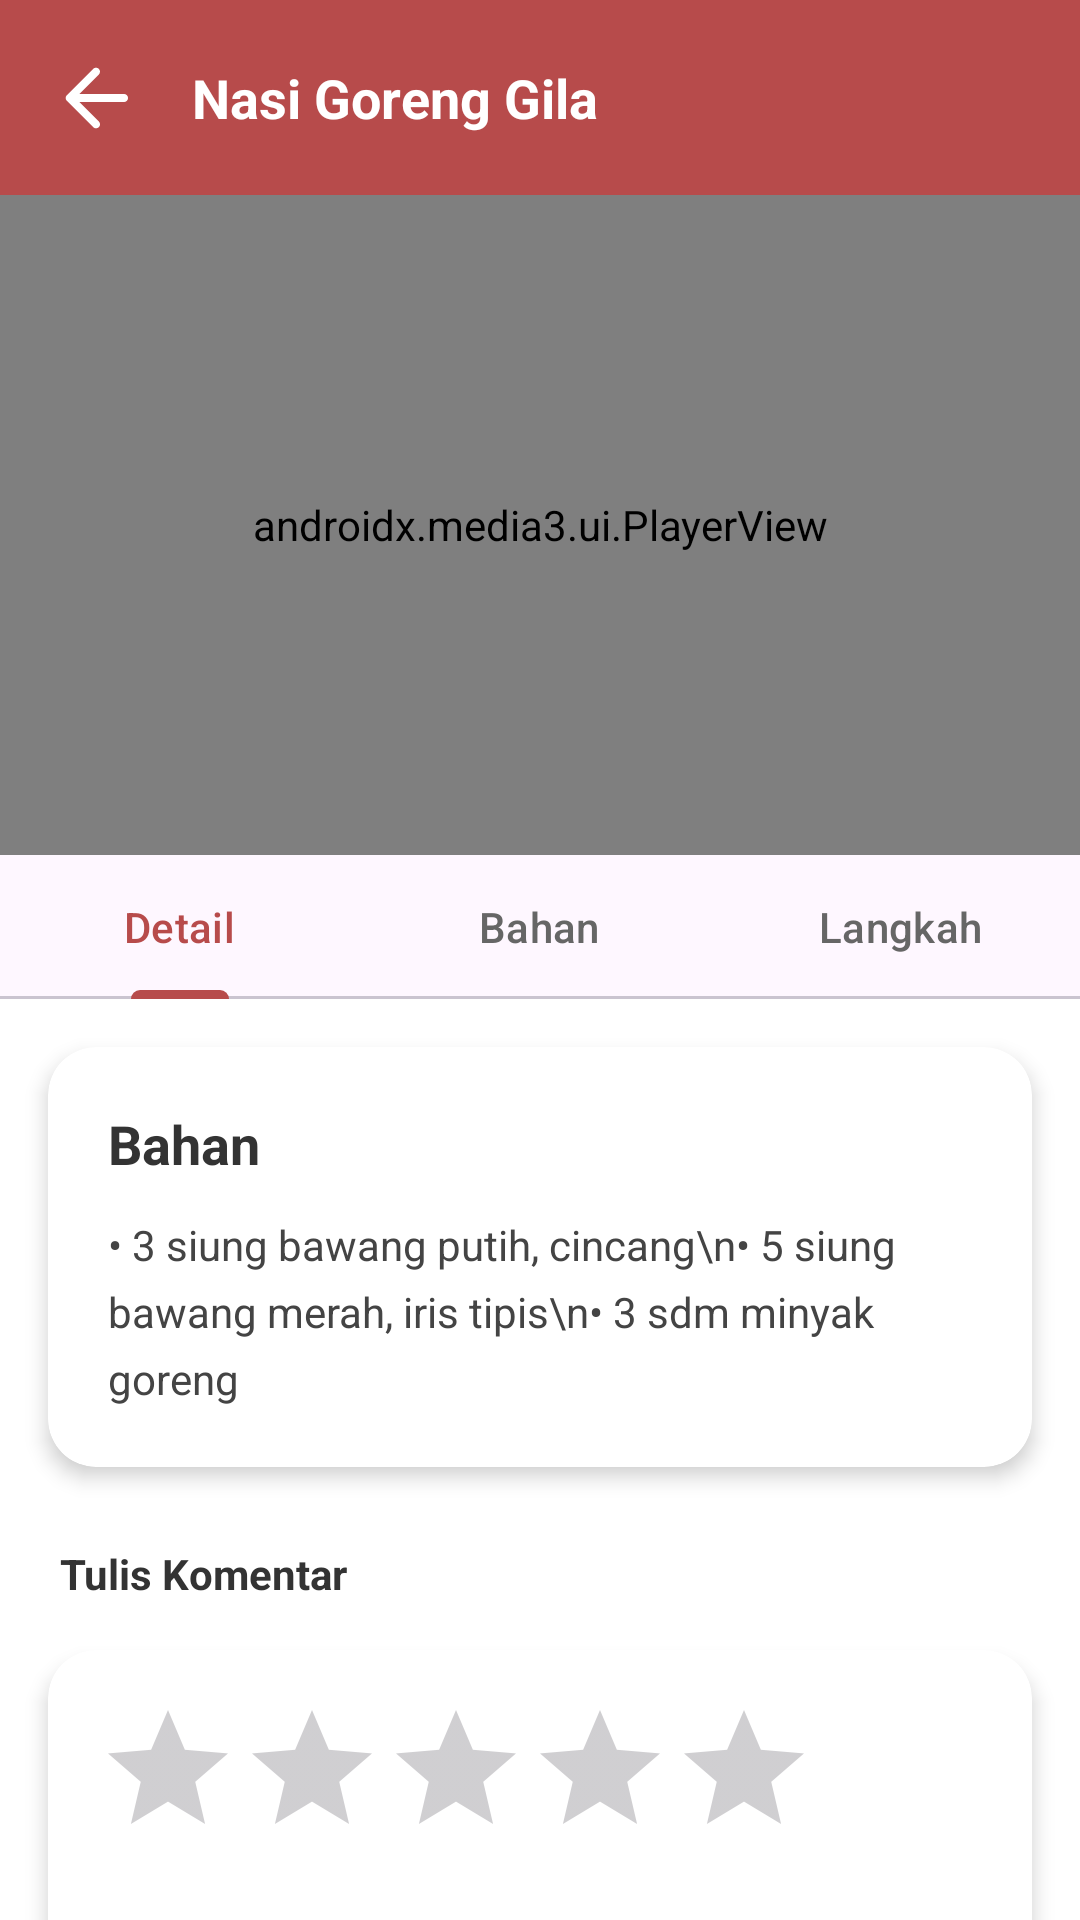

Where to tap for icons on this 1080×1920 app screen, as point (x, y):
back arrow: point (96, 98)
